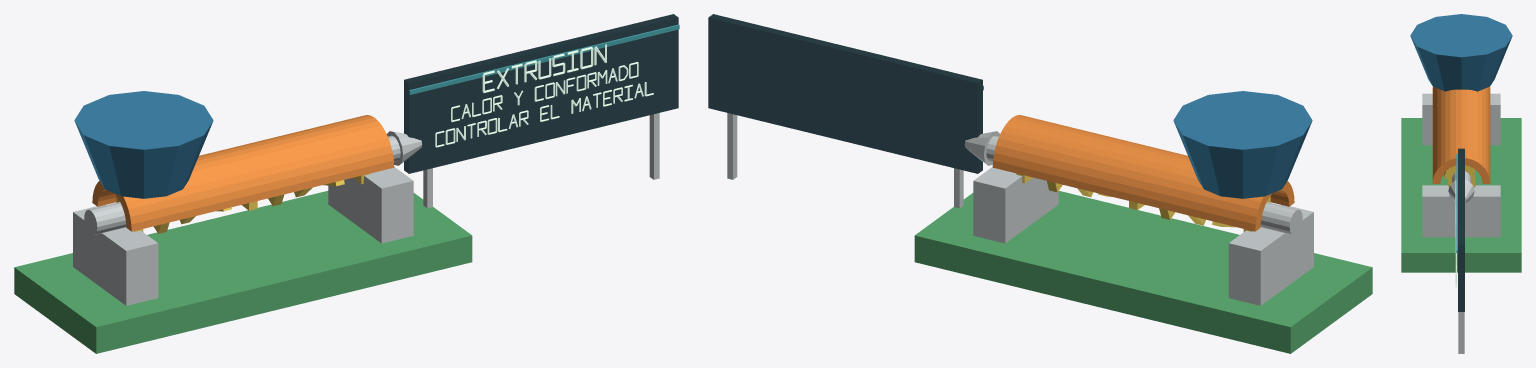
File: CYCLE-018.glb
The picture shows the model from 3 angles, left to right: view 1: azimuth 30°, elevation 25°; view 2: azimuth 150°, elevation 25°; view 3: azimuth 270°, elevation 25°; orthographic projection. The views are drawn at different scales.
Visible parts, largest first — view 1: CYCLE-018; view 2: CYCLE-018; view 3: CYCLE-018.
Boxes of the visible parts, box(x1,y1,x2,y2) form: CYCLE-018: box(14, 14, 679, 353); CYCLE-018: box(708, 14, 1372, 353); CYCLE-018: box(1401, 14, 1521, 353).
Bounding box in the file's own units: 8.75 × 2.45 × 2.
